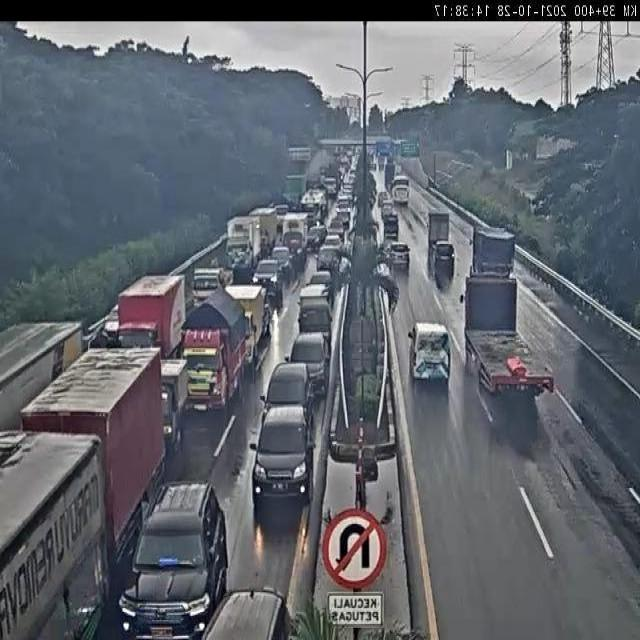Bus: (391, 173, 412, 206)
Car: (120, 480, 230, 637), (250, 401, 315, 507), (261, 360, 314, 434), (290, 331, 330, 399), (253, 258, 285, 304), (269, 246, 293, 284), (432, 240, 457, 272), (306, 270, 333, 299), (388, 240, 411, 271), (306, 224, 328, 251), (382, 212, 399, 240), (321, 233, 343, 254), (326, 221, 346, 244), (380, 199, 395, 215), (377, 190, 388, 208)
Truck: (18, 348, 164, 575), (0, 430, 111, 640), (456, 278, 558, 402), (1, 322, 84, 444), (179, 290, 248, 414), (116, 275, 188, 360), (224, 284, 270, 371), (158, 356, 192, 452), (222, 214, 263, 278), (472, 226, 516, 277), (297, 283, 334, 343), (248, 205, 280, 254), (280, 212, 309, 263), (300, 188, 328, 232), (192, 267, 223, 306), (97, 306, 120, 349), (425, 210, 451, 248), (384, 162, 396, 184)
Van: (407, 321, 453, 386)
